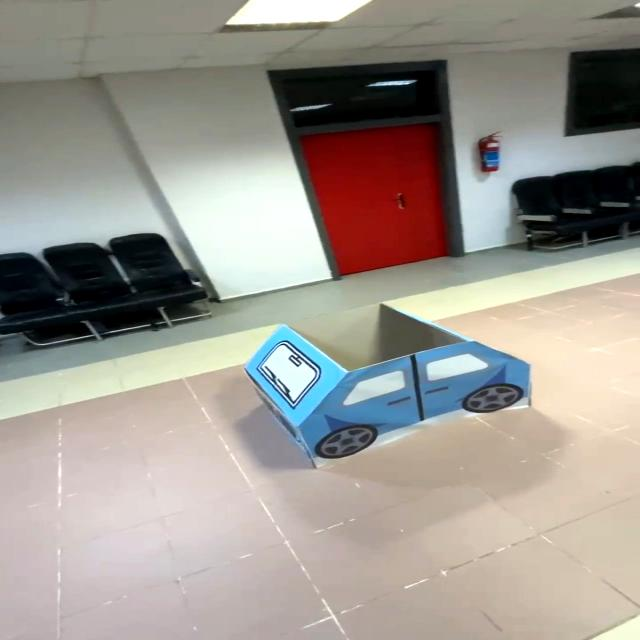blue_car: (203, 287, 568, 490)
